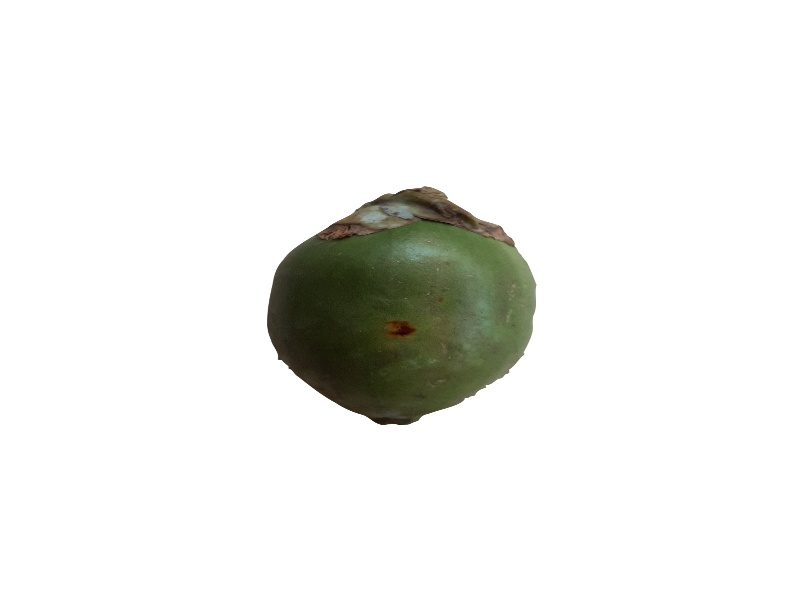arecanut: (263, 181, 544, 436)
